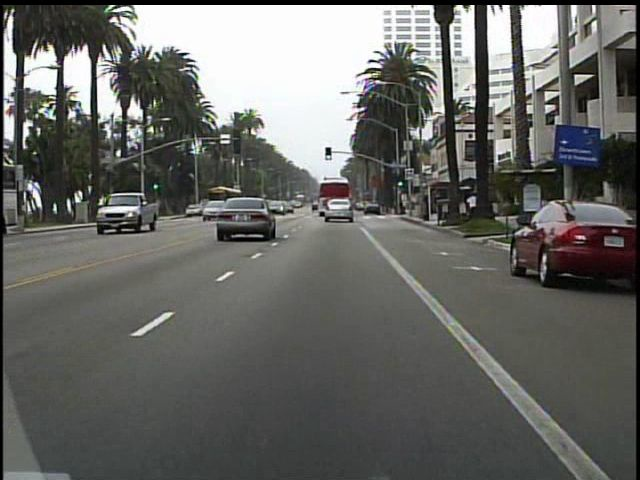person: (465, 191, 481, 224)
